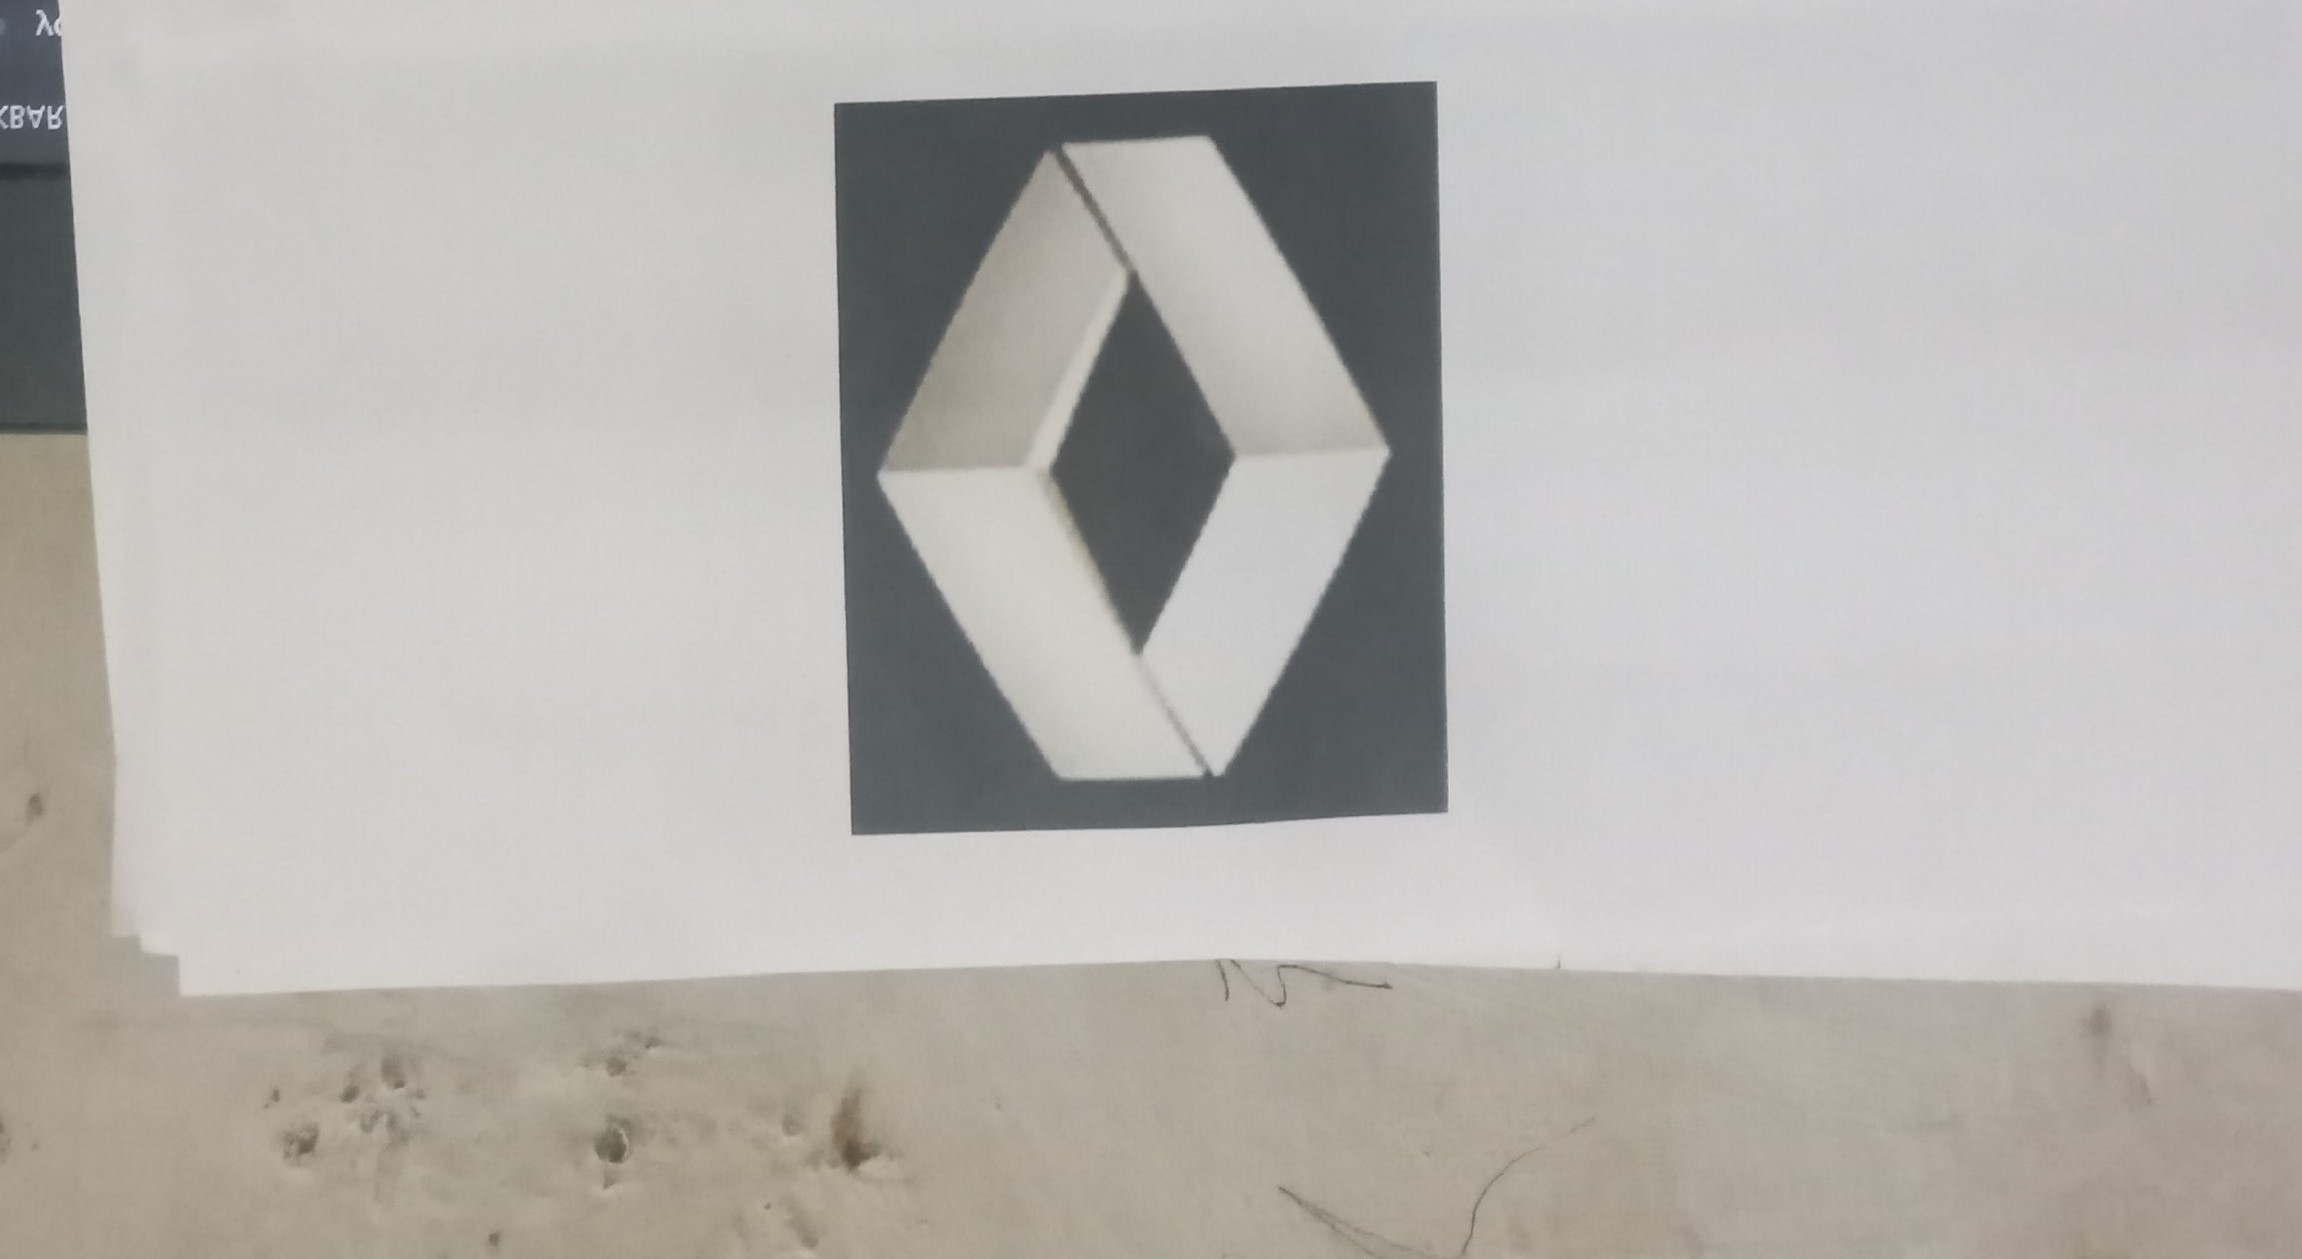Renault: (862, 101, 1429, 802)
